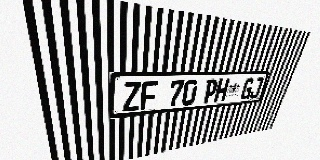0: (181, 79, 198, 106)
7: (167, 80, 185, 107)
F: (140, 81, 158, 110)
G: (240, 78, 255, 100)
H: (213, 78, 230, 103)
J: (249, 77, 264, 99)
P: (202, 79, 219, 104)
Z: (123, 81, 141, 112)
